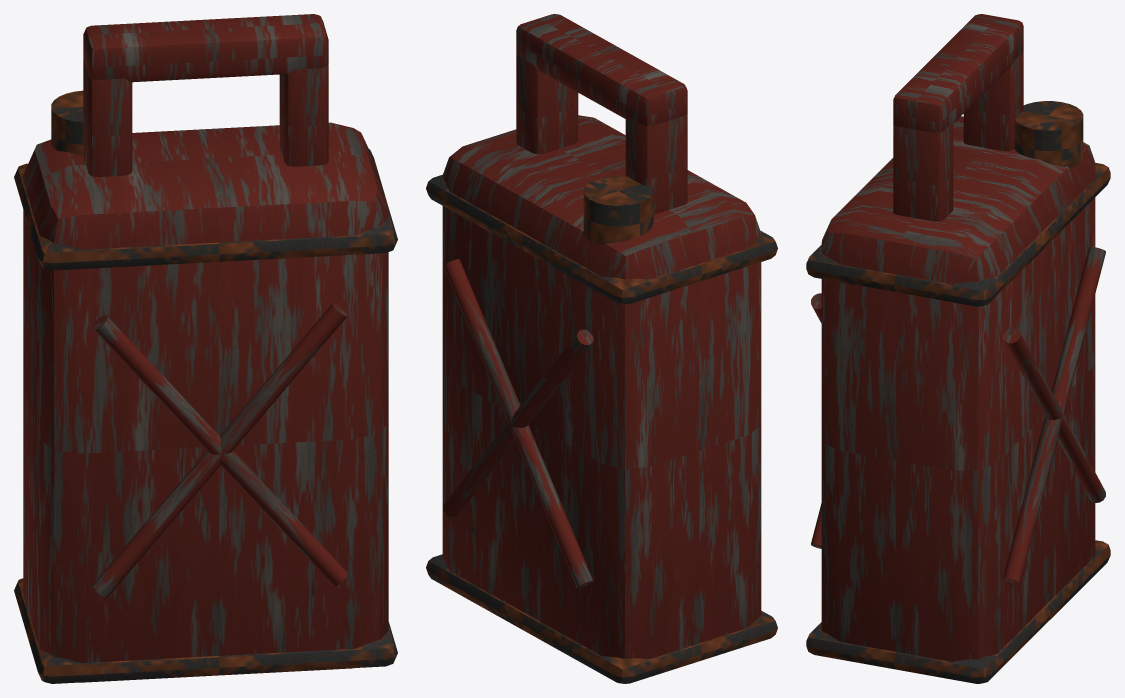
File: SM_MetalFuelContainer_1036b562f6.fbx
3 renders of one model, left to right at view 1: azimuth 30°, elevation 25°; view 2: azimuth 150°, elevation 25°; view 3: azimuth 270°, elevation 25°, orthographic. The views are drawn at different scales.
Parts seen in each view (by area): view 1: SM_MetalFuelContainer_1036b562f6; view 2: SM_MetalFuelContainer_1036b562f6; view 3: SM_MetalFuelContainer_1036b562f6.
Part boxes in pixels (<box>): SM_MetalFuelContainer_1036b562f6: <box>14,14,397,683</box>; SM_MetalFuelContainer_1036b562f6: <box>426,14,777,683</box>; SM_MetalFuelContainer_1036b562f6: <box>806,14,1110,683</box>.
Size of what is drawn, in the model's own units: 37.26 by 30.35 by 62.
Materials: 2 (2 with a texture image).
